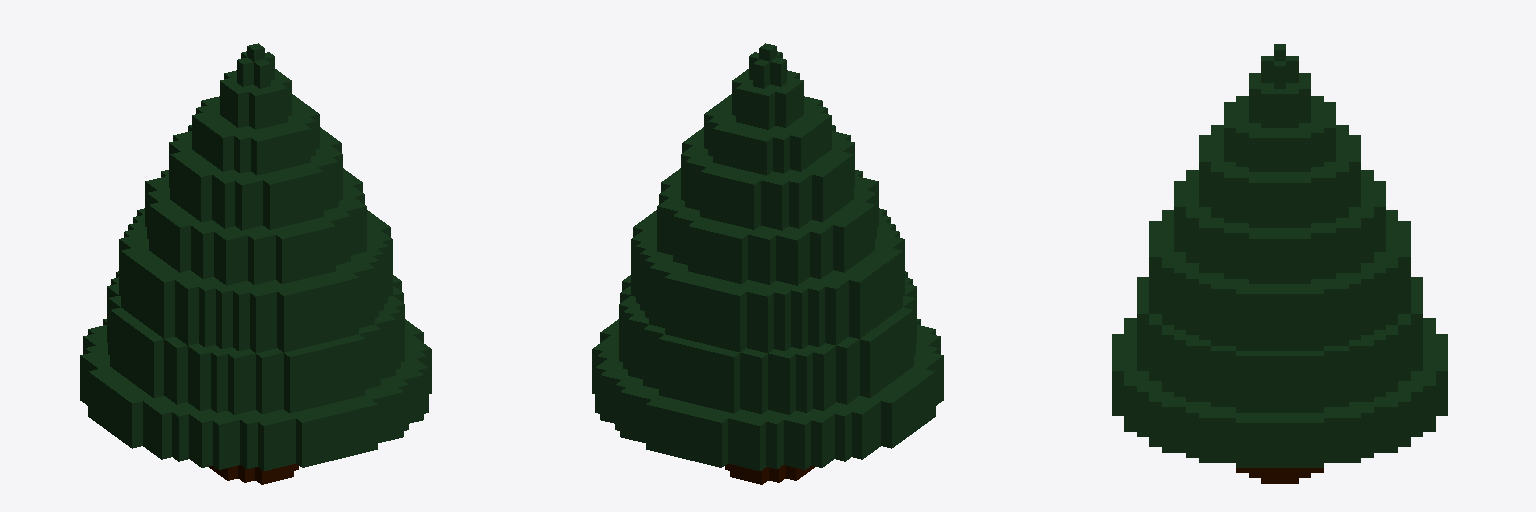
3 renders of one model, left to right at view 1: azimuth 30°, elevation 25°; view 2: azimuth 150°, elevation 25°; view 3: azimuth 270°, elevation 25°, orthographic.
Visible parts, largest first — view 1: tree10; view 2: tree10; view 3: tree10.
Boxes of the visible parts, <box> form: tree10: <box>80,43,431,484</box>; tree10: <box>592,43,943,484</box>; tree10: <box>1112,44,1447,483</box>.
Size of the model in its own units: 27 by 37 by 27.
Materials: 1 (1 with a texture image).